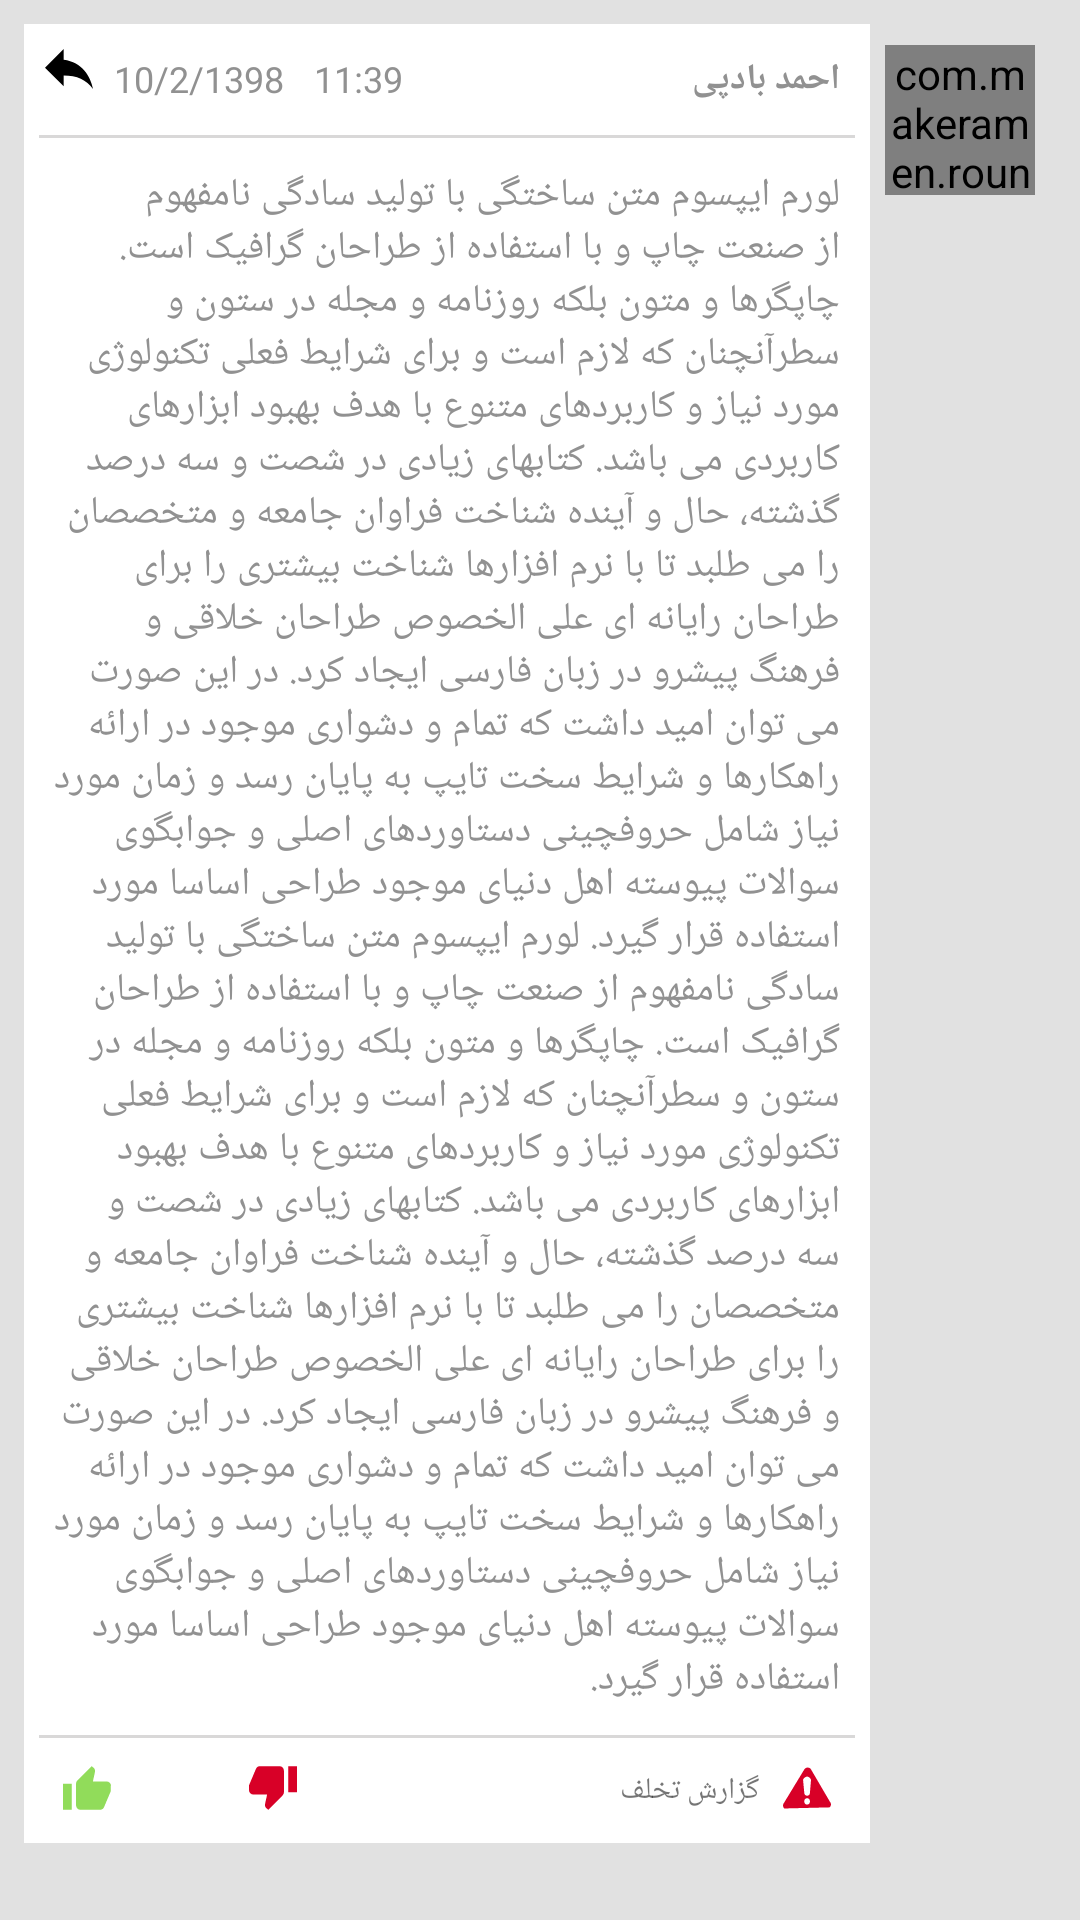

Named icons in this screenshot (1080 × 1920) and their bounding boxes, (x1, y1, x2, y2):
dislike: (249, 1766, 297, 1810)
error: (783, 1767, 831, 1809)
like: (63, 1766, 111, 1810)
reply: (45, 49, 93, 89)
